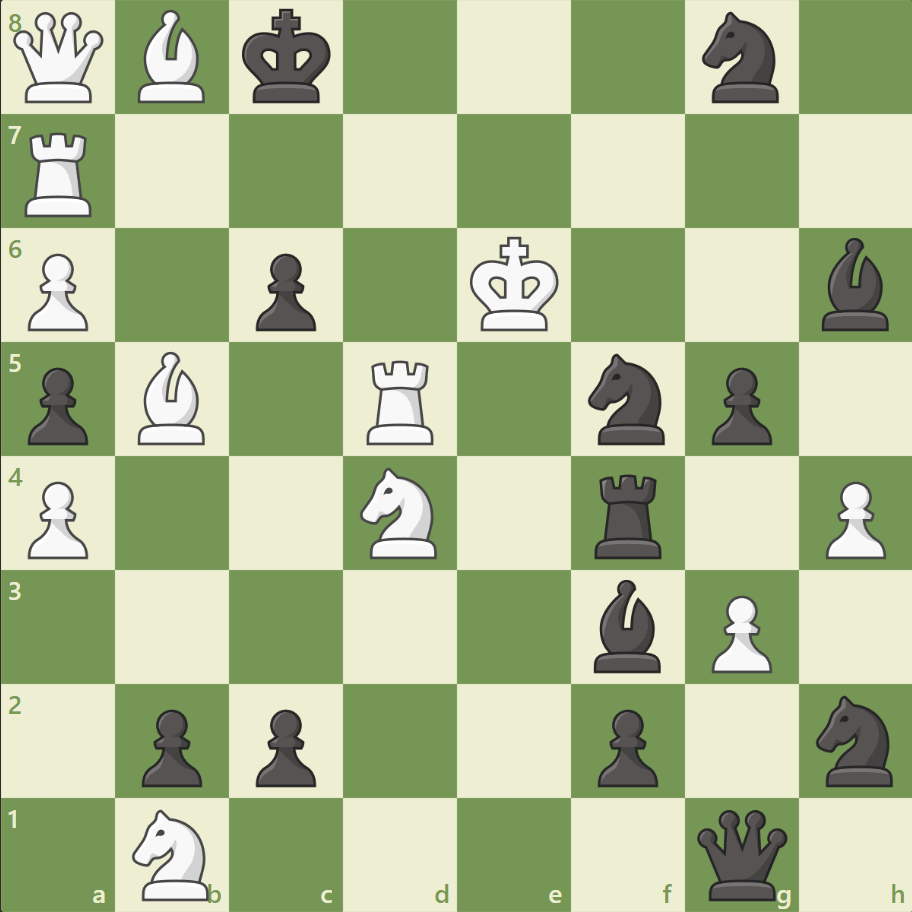B: (131, 6, 215, 109), (131, 347, 215, 449)
K: (465, 231, 565, 339)
N: (351, 461, 449, 564), (124, 802, 222, 904)
P: (20, 246, 95, 337), (20, 473, 95, 564), (701, 586, 776, 677), (815, 473, 889, 564)
Q: (10, 9, 109, 108)
R: (19, 125, 102, 222), (360, 352, 442, 449)
b: (812, 233, 896, 336), (585, 574, 669, 676)
k: (238, 4, 338, 112)
n: (692, 7, 789, 110), (806, 688, 903, 791), (579, 348, 676, 450)
p: (247, 246, 322, 337), (20, 359, 95, 450), (701, 359, 776, 450), (133, 700, 208, 791), (247, 700, 322, 791), (588, 700, 662, 791)
q: (691, 804, 790, 903)
r: (587, 466, 670, 563)
